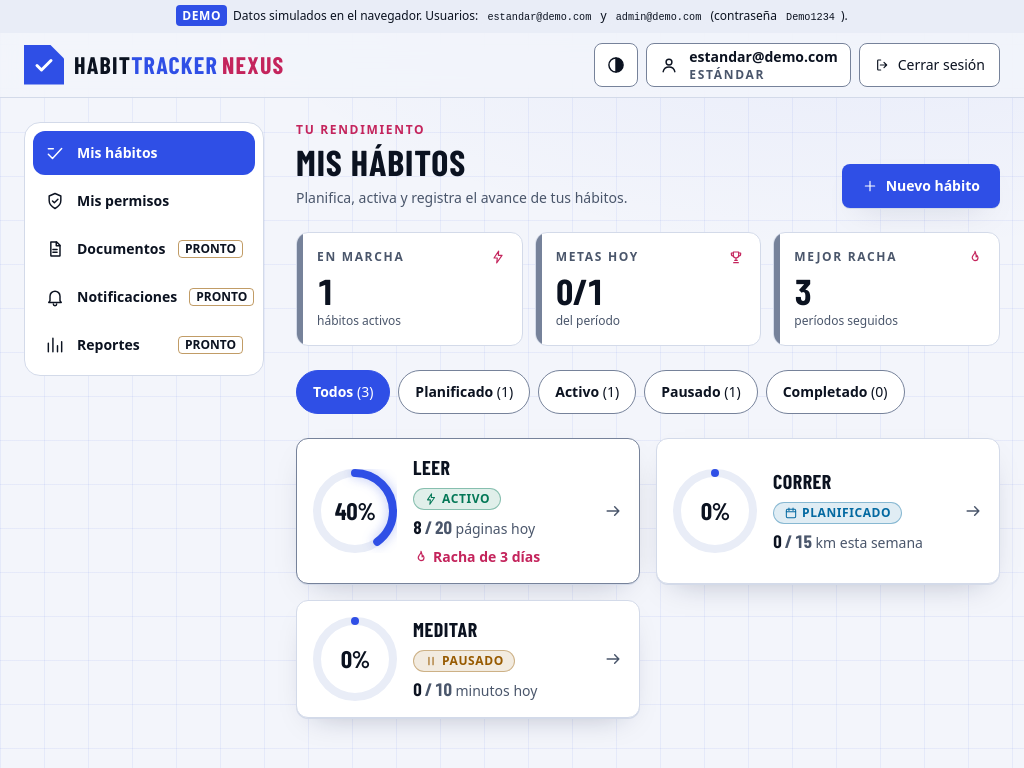
Scenario: selector de tema › el menú de la cabecera funciona con teclado y se cierra con Escape
The image size is (1024, 768).
Click the button named "Tema:" at (616, 65), box [594,43,638,87]
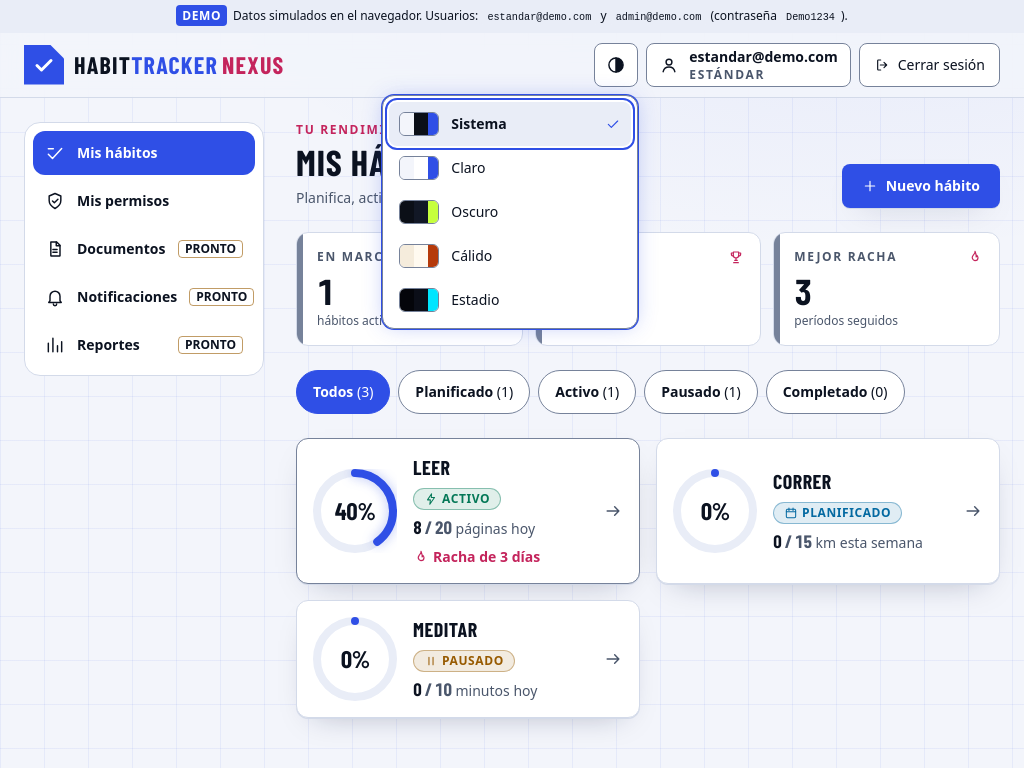
Check: the number of menu items is 5, box [389,102,631,146]; [389,146,631,190]; [389,190,631,234]; [389,234,631,278]; [389,278,631,322]
Press Arrowdown Arrowdown Enter
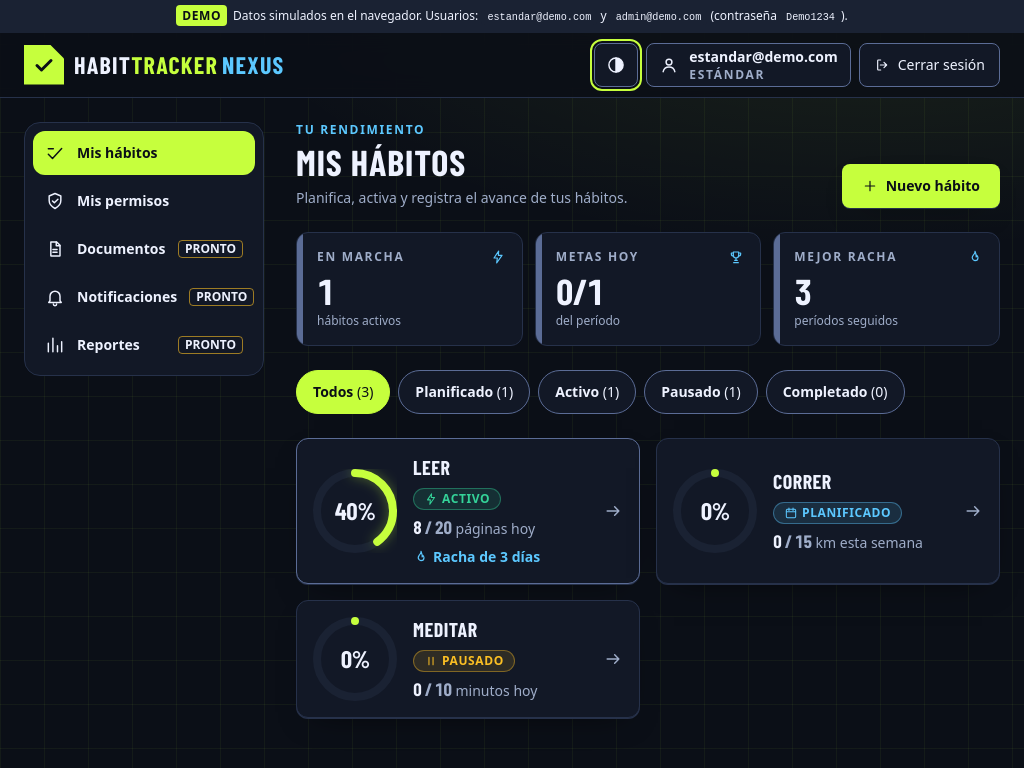
Check: the menu is gone
Click the button named "Tema:" at (616, 65), box [594,43,638,87]
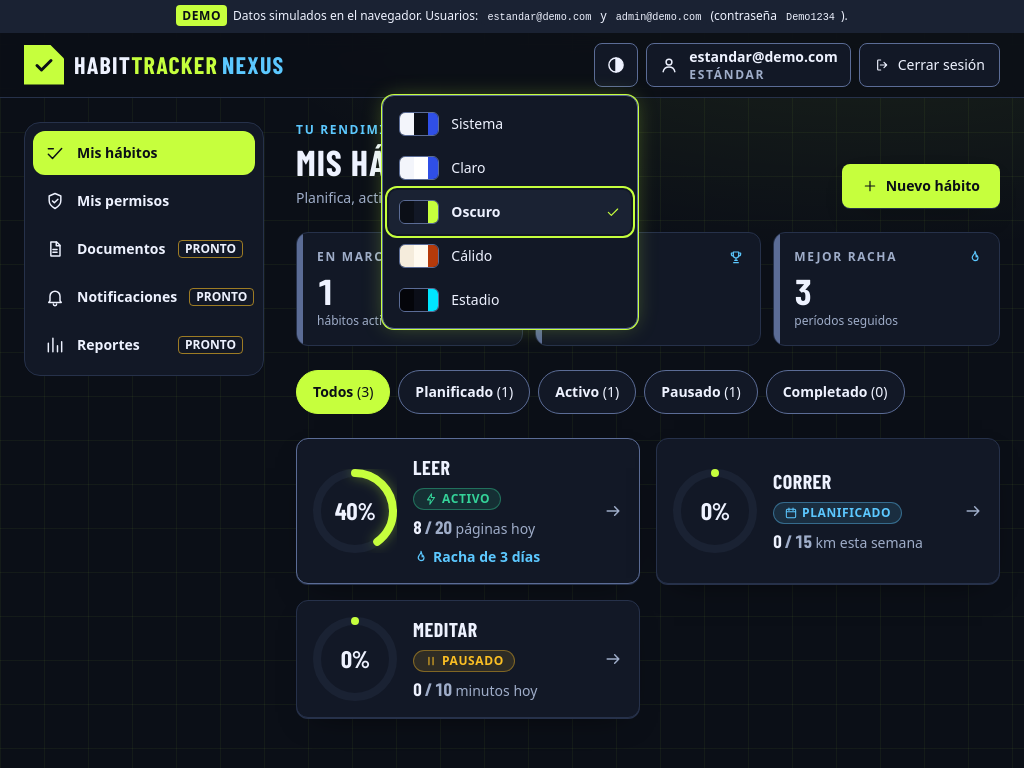
Press Escape
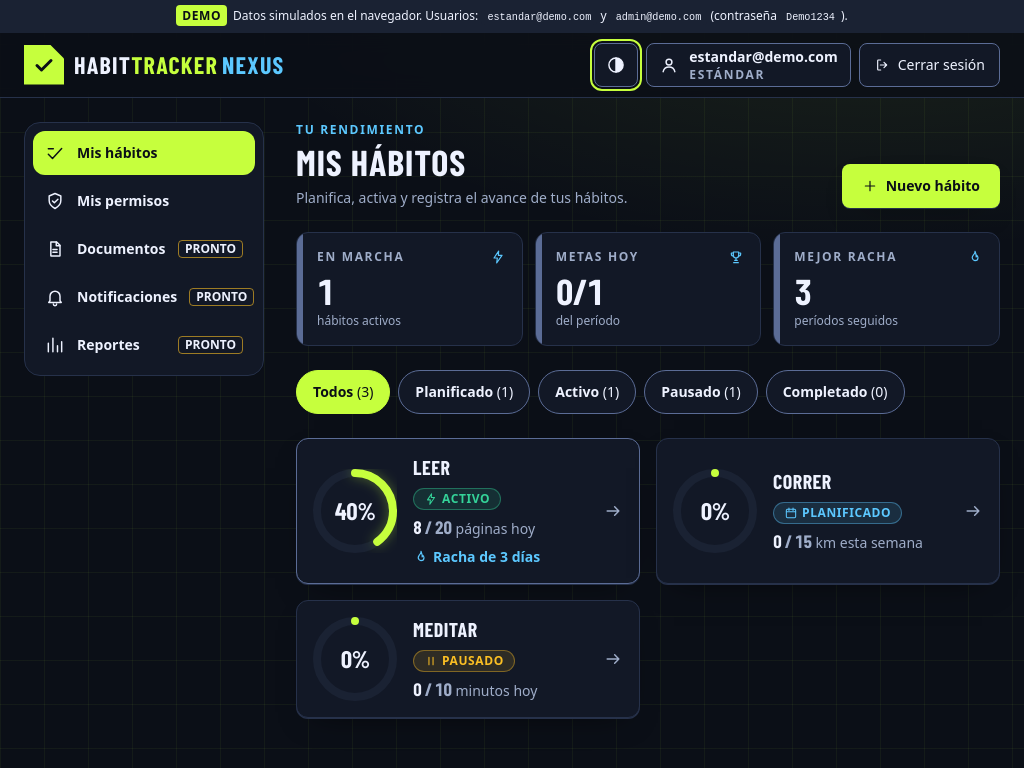
Check: the menu is gone
